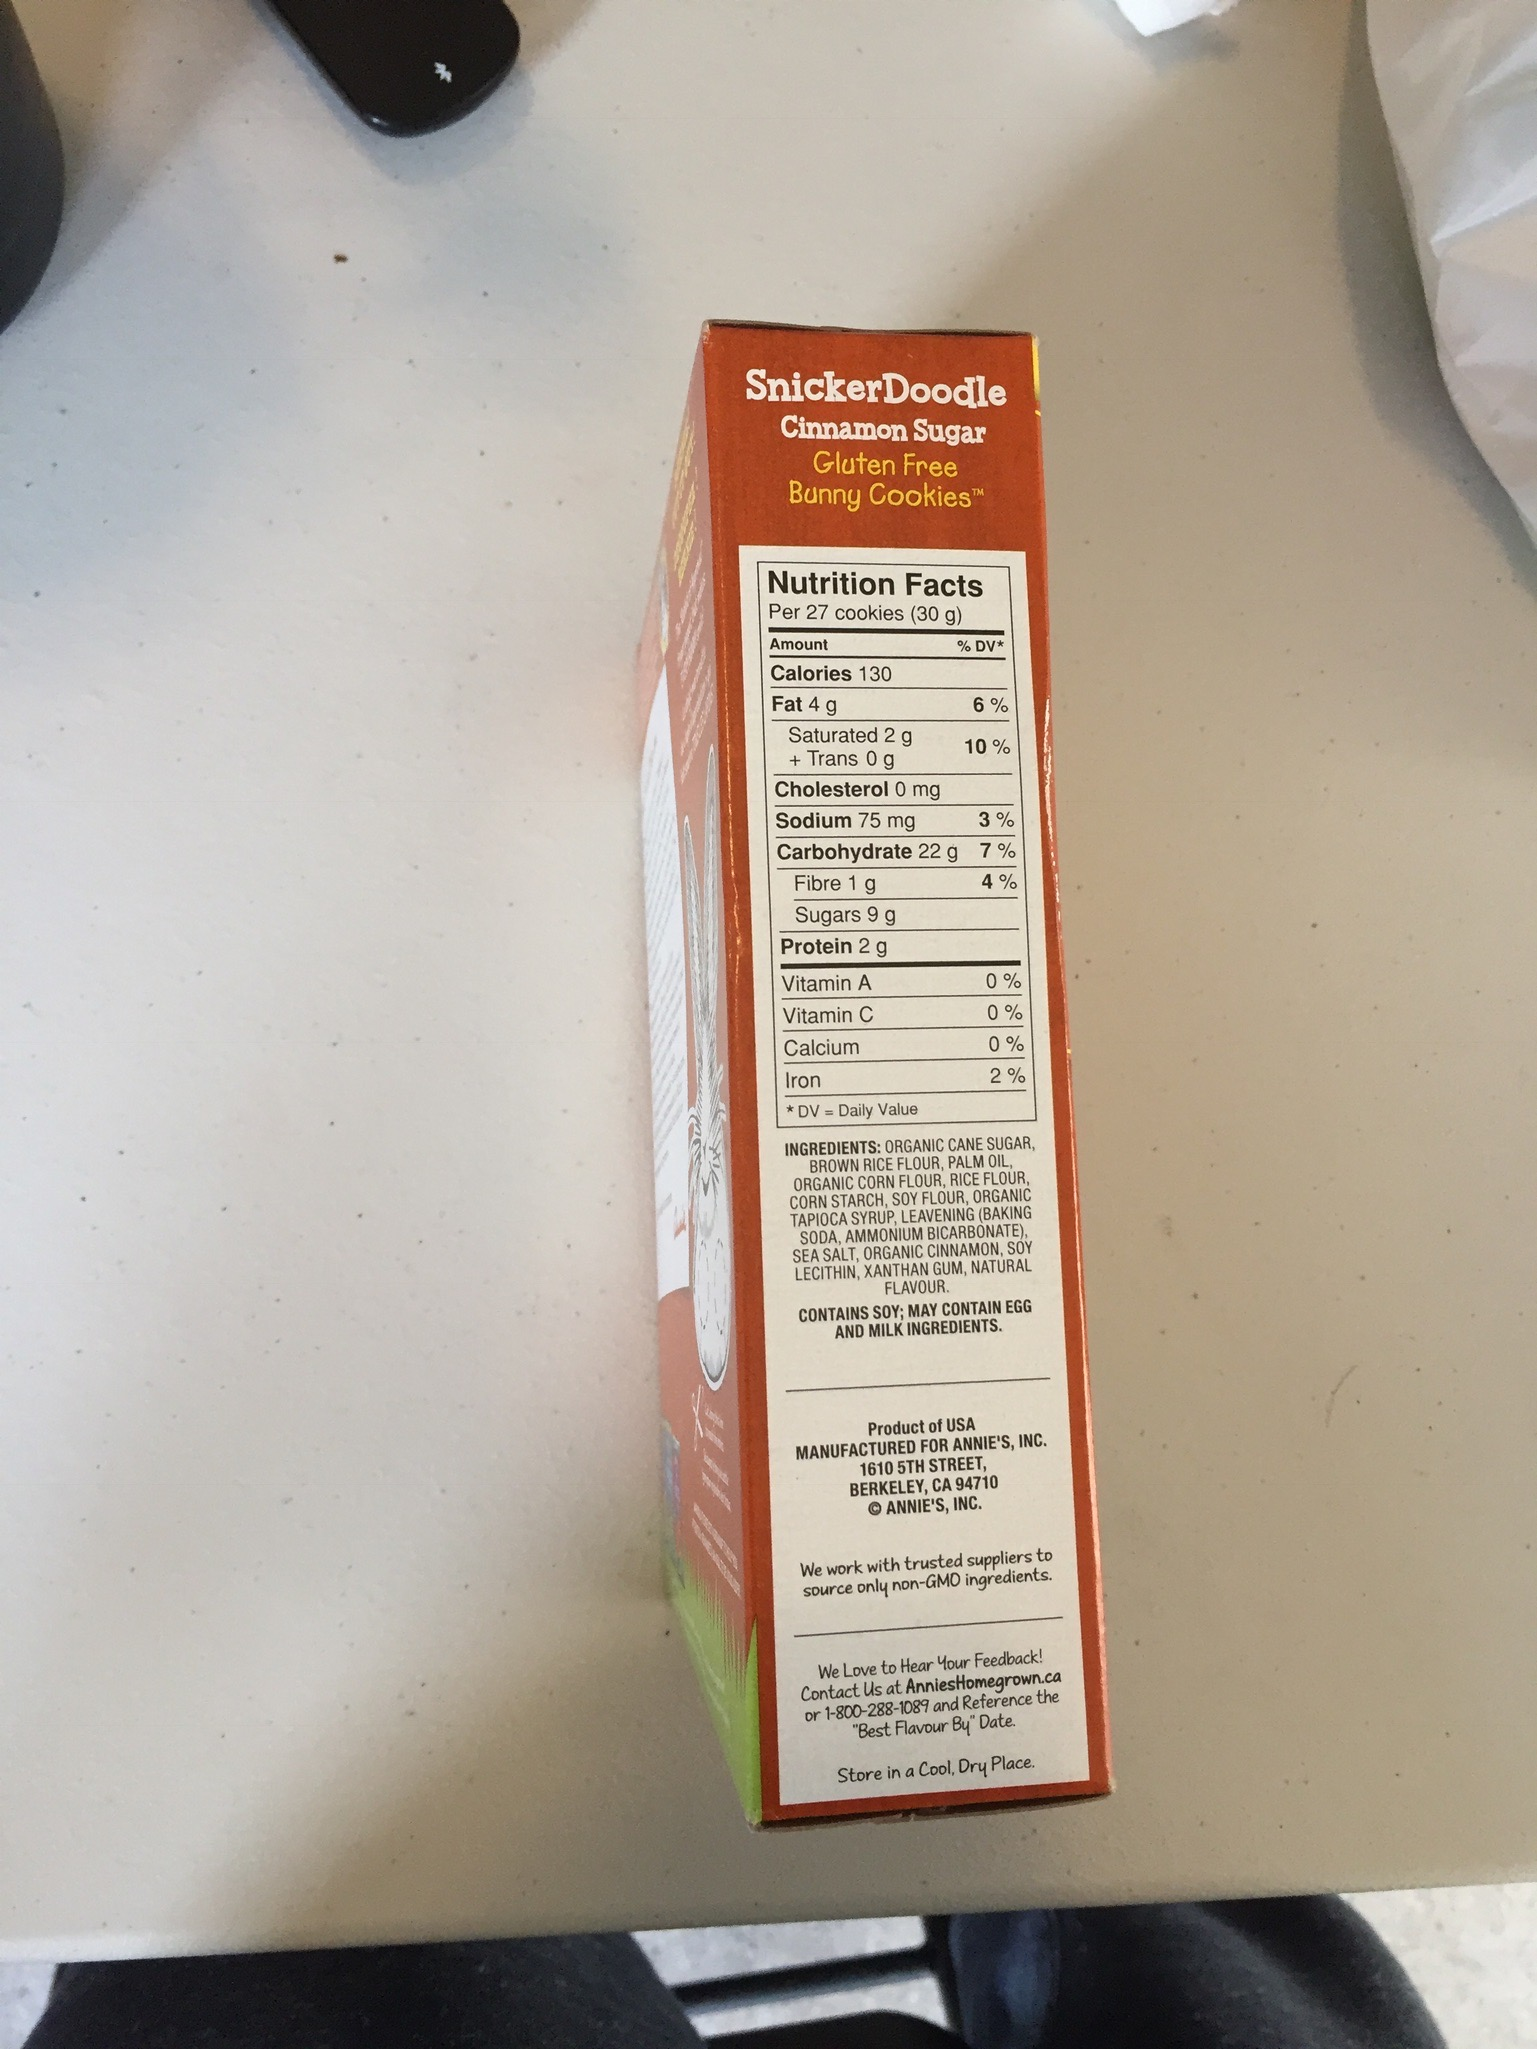annies_snickerdoodles_cinnamon_sugar: (699, 334, 1083, 1795)
